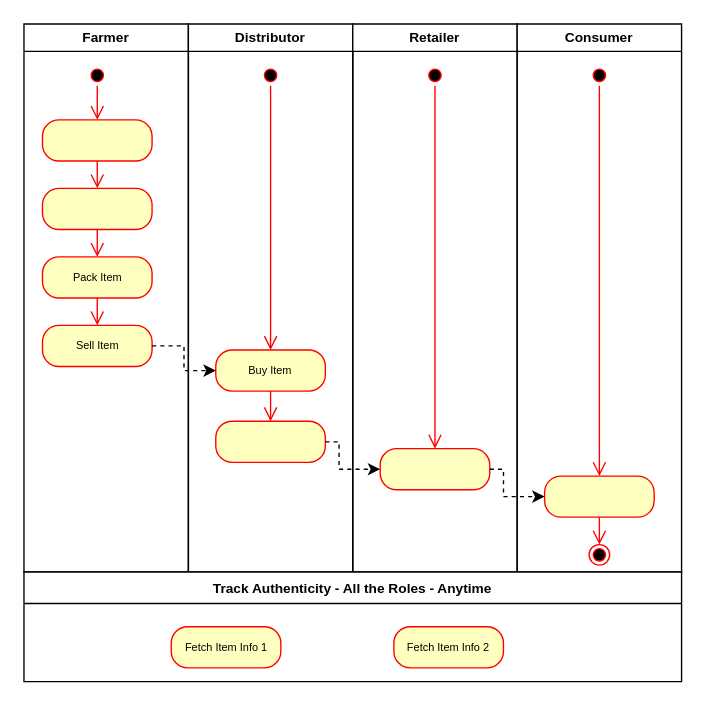
This 706x706 diagram has some shape labels left out. Each missing label, with the centre of its shape:
"Harvest Item" belongs at (96,140).
"Process Item" belongs at (96,208).
"Purchase Item" belongs at (598,496).
"Receive Item" belongs at (434,468).
"Ship Item" belongs at (269,441).
